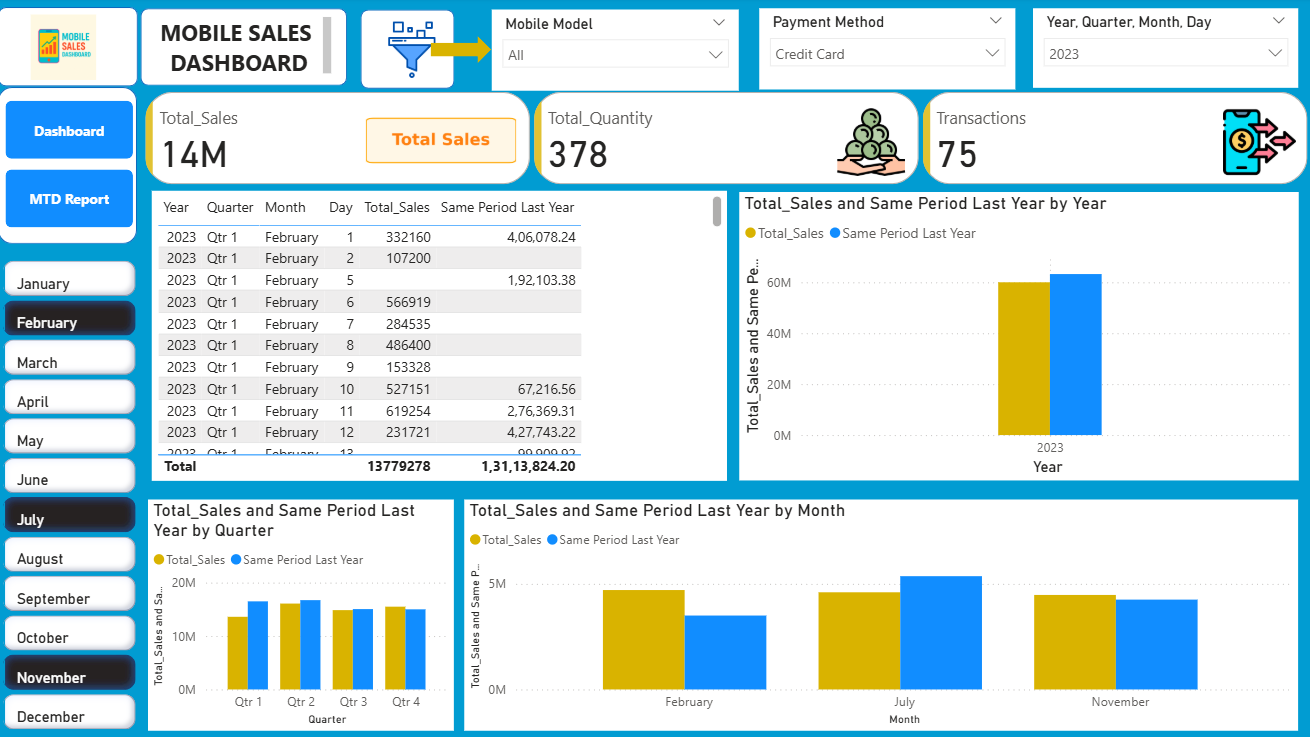

This screenshot's page, from the dashboard's own definition file:
{"tool":"powerbi","page":{"name":"Same Period Last Year","canvas":[1280,720],"ordinal":2},"visuals":[{"type":"shape","box":[10,10,135,76.7],"z":0},{"type":"shape","box":[10.1,86.6,134.2,151.5],"z":1000},{"type":"cardVisual","fields":{"Data":["Sales_Data.Total_Sales","Sales_Data.Total_Quantity","Sales_Data.Transactions"]},"box":[147.7,87.2,1131.9,99.7],"z":2000},{"type":"slicer","fields":{"Values":["Sales_Data.Payment Method"]},"box":[744,10.7,247.4,78.3],"z":3000},{"type":"slicer","fields":{"Values":["Custom_Calender.Date.Variation.Date Hierarchy.Year","Custom_Calender.Date.Variation.Date Hierarchy.Quarter","Custom_Calender.Date.Variation.Date Hierarchy.Month","Custom_Calender.Date.Variation.Date Hierarchy.Day"]},"box":[1009.1,10.7,256.3,76.5],"z":4000},{"type":"slicer","fields":{"Values":["Sales_Data.Mobile Model"]},"box":[485.9,12.5,238.5,78.3],"z":5000},{"type":"shape","box":[359.5,12.5,90.8,76.5],"z":6000},{"type":"image","box":[359.5,17.8,99.7,65.9],"z":7000},{"type":"shape","box":[427.1,37.4,58.7,26.7],"z":8000},{"type":"shape","box":[147.7,10.7,199.3,74.8],"z":9000},{"type":"textbox","box":[156.6,14.2,179.8,65.9],"z":10000},{"type":"advancedSlicerVisual","fields":{"Values":["Custom_Calender.Date.Variation.Date Hierarchy.Month"]},"box":[10,250,138.3,470],"z":12000},{"type":"tableEx","fields":{"Values":["Custom_Calender.Date.Variation.Date Hierarchy.Year","Custom_Calender.Date.Variation.Date Hierarchy.Quarter","Custom_Calender.Date.Variation.Date Hierarchy.Month","Custom_Calender.Date.Variation.Date Hierarchy.Day","Sales_Data.Total_Sales","Sales_Data.Same Period Last Year"]},"box":[158.3,186.7,555,280],"z":12001},{"type":"clusteredColumnChart","fields":{"Category":["Custom_Calender.Date.Variation.Date Hierarchy.Year","Custom_Calender.Date.Variation.Date Hierarchy.Quarter","Custom_Calender.Date.Variation.Date Hierarchy.Month","Custom_Calender.Date.Variation.Date Hierarchy.Day"],"Y":["Sales_Data.Total_Sales","Sales_Data.Same Period Last Year"]},"box":[725,188.3,540,278.3],"z":12002},{"type":"clusteredColumnChart","fields":{"Category":["Custom_Calender.Date.Variation.Date Hierarchy.Year","Custom_Calender.Date.Variation.Date Hierarchy.Quarter","Custom_Calender.Date.Variation.Date Hierarchy.Month","Custom_Calender.Date.Variation.Date Hierarchy.Day"],"Y":["Sales_Data.Total_Sales","Sales_Data.Same Period Last Year"]},"box":[155,485,295,223.3],"z":12003},{"type":"clusteredColumnChart","fields":{"Category":["Custom_Calender.Date.Variation.Date Hierarchy.Year","Custom_Calender.Date.Variation.Date Hierarchy.Quarter","Custom_Calender.Date.Variation.Date Hierarchy.Month","Custom_Calender.Date.Variation.Date Hierarchy.Day"],"Y":["Sales_Data.Total_Sales","Sales_Data.Same Period Last Year"]},"box":[460,485,805,223.3],"z":12004},{"type":"pageNavigator","box":[16.7,100,123.3,123.3],"z":12005},{"type":"image","box":[1.7,11.7,143.3,73.3],"z":12006}]}

Visuals, with their boxes in screenshot pixels (x1, y1, x2, y2), scaled from the page's 1280x720 canvas onto the 1310x737 screenshot:
shape: locate(10, 10, 148, 89)
shape: locate(10, 89, 148, 244)
cardVisual - Sales_Data.Total_Sales x Sales_Data.Total_Quantity: locate(151, 89, 1309, 191)
slicer - Sales_Data.Payment Method: locate(761, 11, 1015, 91)
slicer - Custom_Calender.Date.Variation.Date Hierarchy.Year x Custom_Calender.Date.Variation.Date Hierarchy.Quarter: locate(1033, 11, 1295, 89)
slicer - Sales_Data.Mobile Model: locate(497, 13, 741, 93)
shape: locate(368, 13, 461, 91)
image: locate(368, 18, 470, 86)
shape: locate(437, 38, 497, 66)
shape: locate(151, 11, 355, 88)
textbox: locate(160, 15, 344, 82)
advancedSlicerVisual - Custom_Calender.Date.Variation.Date Hierarchy.Month: locate(10, 256, 152, 736)
tableEx - Custom_Calender.Date.Variation.Date Hierarchy.Year x Custom_Calender.Date.Variation.Date Hierarchy.Quarter: locate(162, 191, 730, 478)
clusteredColumnChart - Custom_Calender.Date.Variation.Date Hierarchy.Year x Custom_Calender.Date.Variation.Date Hierarchy.Quarter: locate(742, 193, 1295, 478)
clusteredColumnChart - Custom_Calender.Date.Variation.Date Hierarchy.Year x Custom_Calender.Date.Variation.Date Hierarchy.Quarter: locate(159, 496, 461, 725)
clusteredColumnChart - Custom_Calender.Date.Variation.Date Hierarchy.Year x Custom_Calender.Date.Variation.Date Hierarchy.Quarter: locate(471, 496, 1295, 725)
pageNavigator: locate(17, 102, 143, 229)
image: locate(2, 12, 148, 87)
